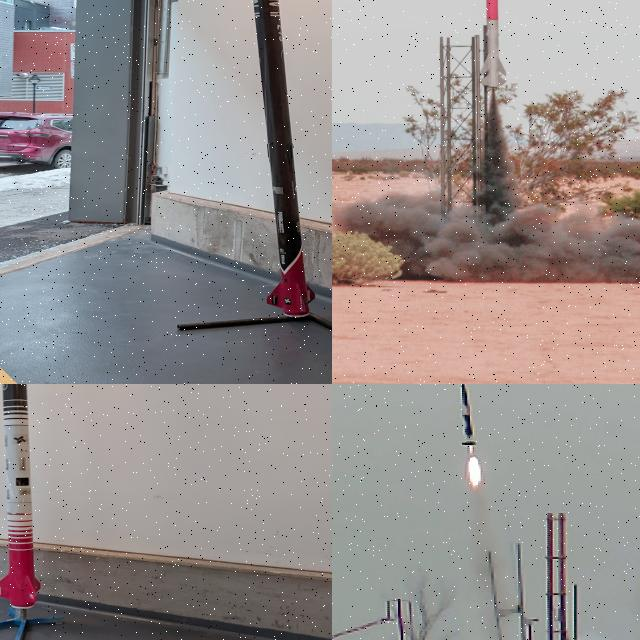Rocket: (253, 0, 315, 317), (0, 384, 41, 609), (478, 0, 508, 89), (458, 384, 478, 446)
